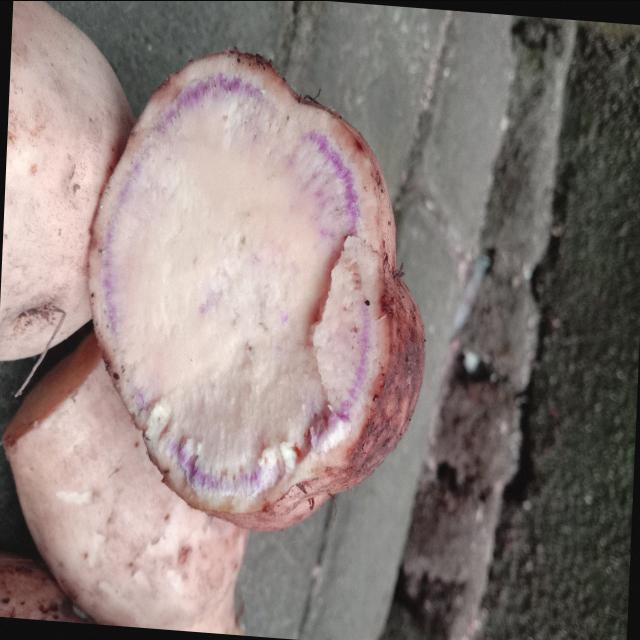Healthy Sweet Potato: (90, 50, 422, 530)
